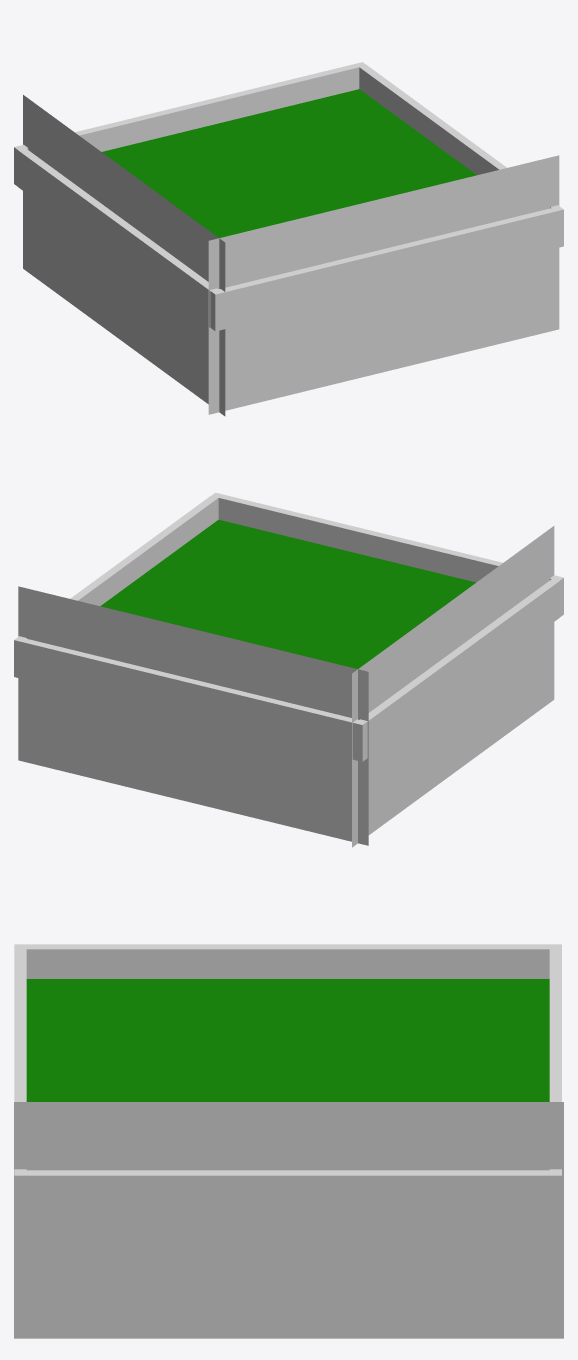
The model's file is template.glb.
3 views of the same model, one above another, from view 1: azimuth 30°, elevation 25°; view 2: azimuth 150°, elevation 25°; view 3: azimuth 270°, elevation 25° (orthographic). The views are drawn at different scales.
Visible parts, largest first — view 1: obj_snap, Cube, obj_snap.002, Cube.003, Cube.001, Cube.004, Cube.002; view 2: obj_snap.001, Cube, obj_snap.002, Cube.004, Cube.001, Cube.003, Cube.002; view 3: obj_snap.003, Cube, Cube.002, Cube.001, Cube.003, Cube.004.
Part boxes in pixels (box(x1,y1,x2,y2)): obj_snap: box(208, 155, 559, 414); Cube: box(102, 89, 476, 237); obj_snap.002: box(23, 95, 225, 416); Cube.003: box(211, 206, 563, 331); Cube.001: box(18, 148, 218, 327); Cube.004: box(14, 62, 366, 186); Cube.002: box(359, 65, 559, 208); obj_snap.001: box(18, 586, 368, 845); Cube: box(100, 519, 475, 668); obj_snap.002: box(352, 526, 554, 847); Cube.004: box(14, 636, 366, 761); Cube.001: box(360, 579, 559, 758); Cube.003: box(211, 492, 563, 617); Cube.002: box(19, 496, 218, 638); obj_snap.003: box(14, 1102, 563, 1338); Cube: box(26, 979, 549, 1101); Cube.002: box(26, 1170, 549, 1225); Cube.001: box(26, 944, 549, 978); Cube.003: box(14, 944, 26, 1225); Cube.004: box(549, 944, 561, 1225).
Bounding box in the file's own units: 4.21 × 2 × 4.21.
